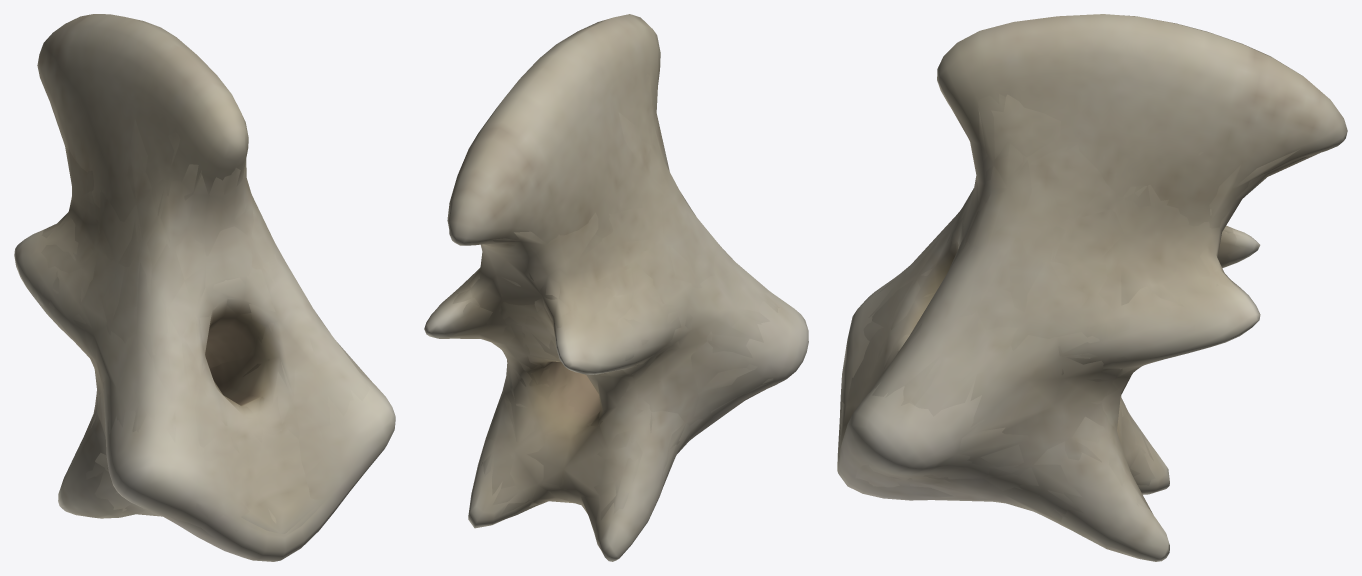
File: vertebra cervicalis 2 axis.fbx
The picture shows the model from 3 angles, left to right: view 1: azimuth 30°, elevation 25°; view 2: azimuth 150°, elevation 25°; view 3: azimuth 270°, elevation 25°; orthographic projection. The views are drawn at different scales.
Visible parts, largest first — view 1: vertebra cervicalis 2 axis high, vertebra cervicalis 2 axis low, vertebra cervicalis 2 axis; view 2: vertebra cervicalis 2 axis high, vertebra cervicalis 2 axis low, vertebra cervicalis 2 axis; view 3: vertebra cervicalis 2 axis high, vertebra cervicalis 2 axis low, vertebra cervicalis 2 axis.
Boxes of the visible parts, x1,y1,x2,y2 form: vertebra cervicalis 2 axis high: [14, 14, 395, 561]; vertebra cervicalis 2 axis low: [49, 104, 370, 533]; vertebra cervicalis 2 axis: [36, 132, 371, 538]; vertebra cervicalis 2 axis high: [424, 14, 808, 561]; vertebra cervicalis 2 axis low: [464, 84, 778, 507]; vertebra cervicalis 2 axis: [449, 74, 779, 534]; vertebra cervicalis 2 axis high: [837, 14, 1347, 561]; vertebra cervicalis 2 axis low: [839, 94, 1319, 529]; vertebra cervicalis 2 axis: [838, 94, 1339, 518].
Size of the model in its own units: 1.4 by 2.38 by 2.15.
Materials: 1 (1 with a texture image).
